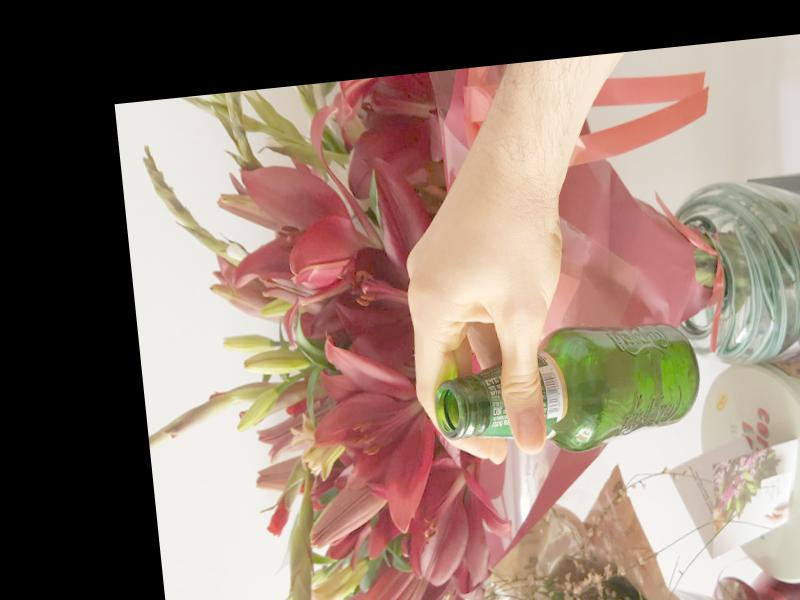Beer: (430, 319, 706, 465)
